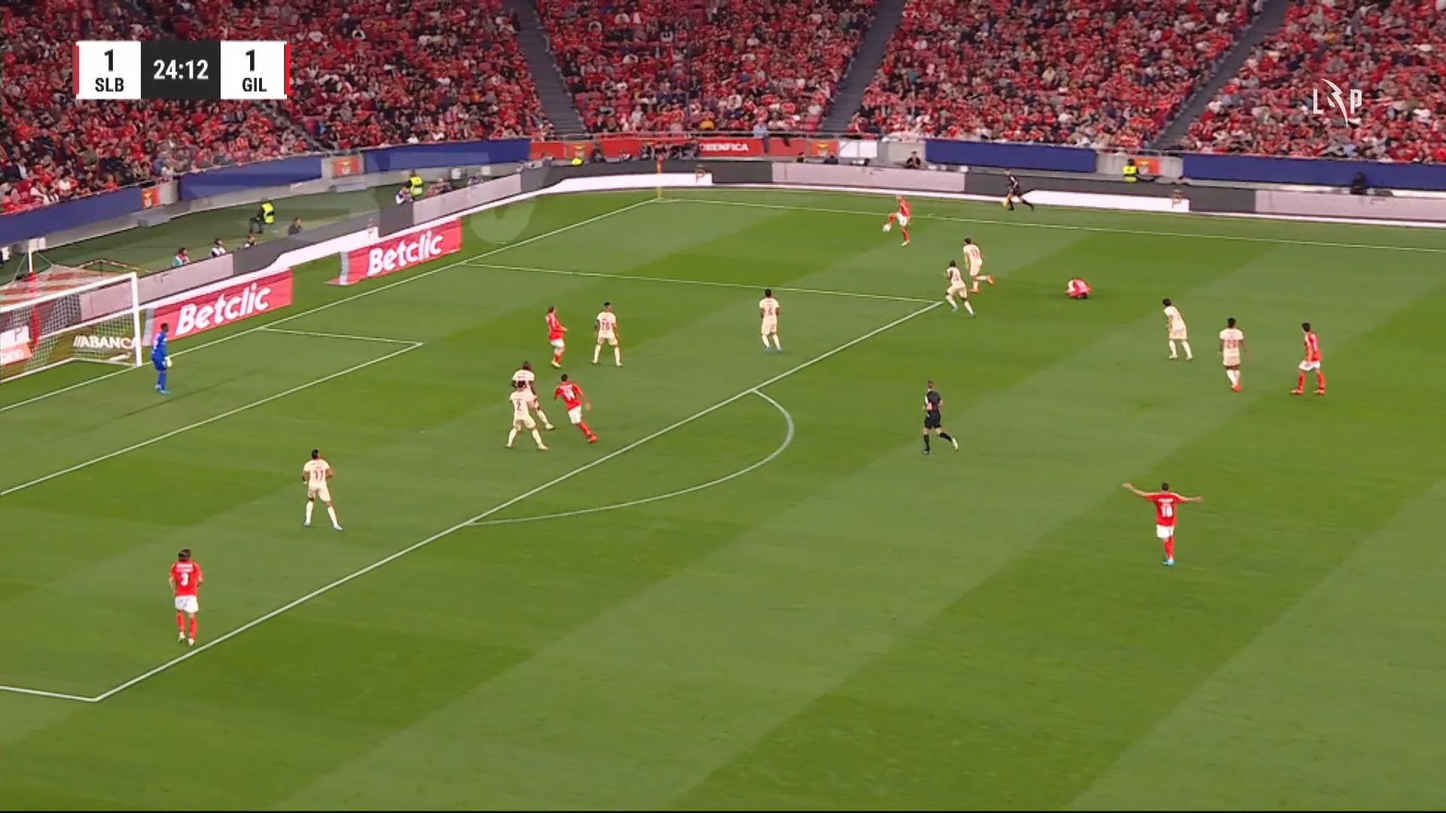ball: (1298, 360, 1312, 372), (570, 156, 582, 166), (882, 223, 891, 232)
goalkeeper: (150, 321, 172, 394)
player: (1121, 480, 1203, 566), (300, 448, 343, 531), (168, 548, 203, 647), (505, 379, 550, 450), (509, 360, 554, 431), (553, 373, 598, 443), (1289, 321, 1326, 395), (590, 301, 623, 367), (1218, 316, 1246, 392), (1161, 297, 1192, 361), (942, 258, 975, 317), (962, 236, 990, 294), (882, 194, 912, 247), (758, 288, 782, 353), (545, 304, 567, 368), (1065, 277, 1091, 299)
referee: (920, 379, 958, 455), (1001, 169, 1034, 212)
